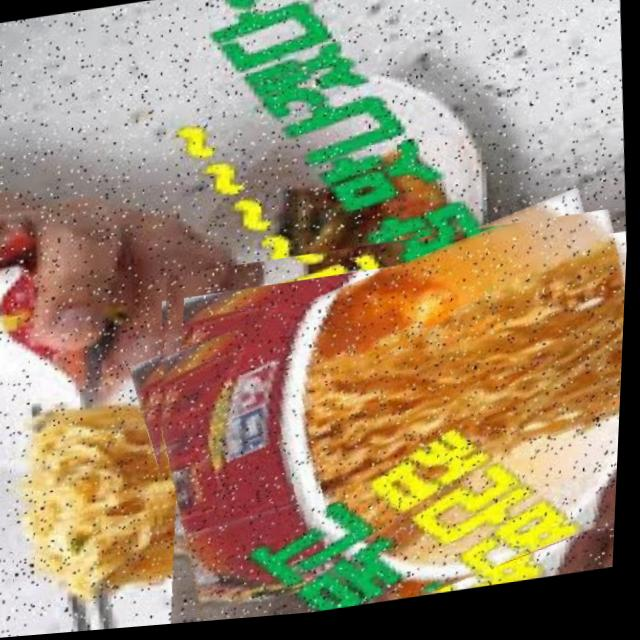Miscellaneous: (133, 215, 631, 630)
